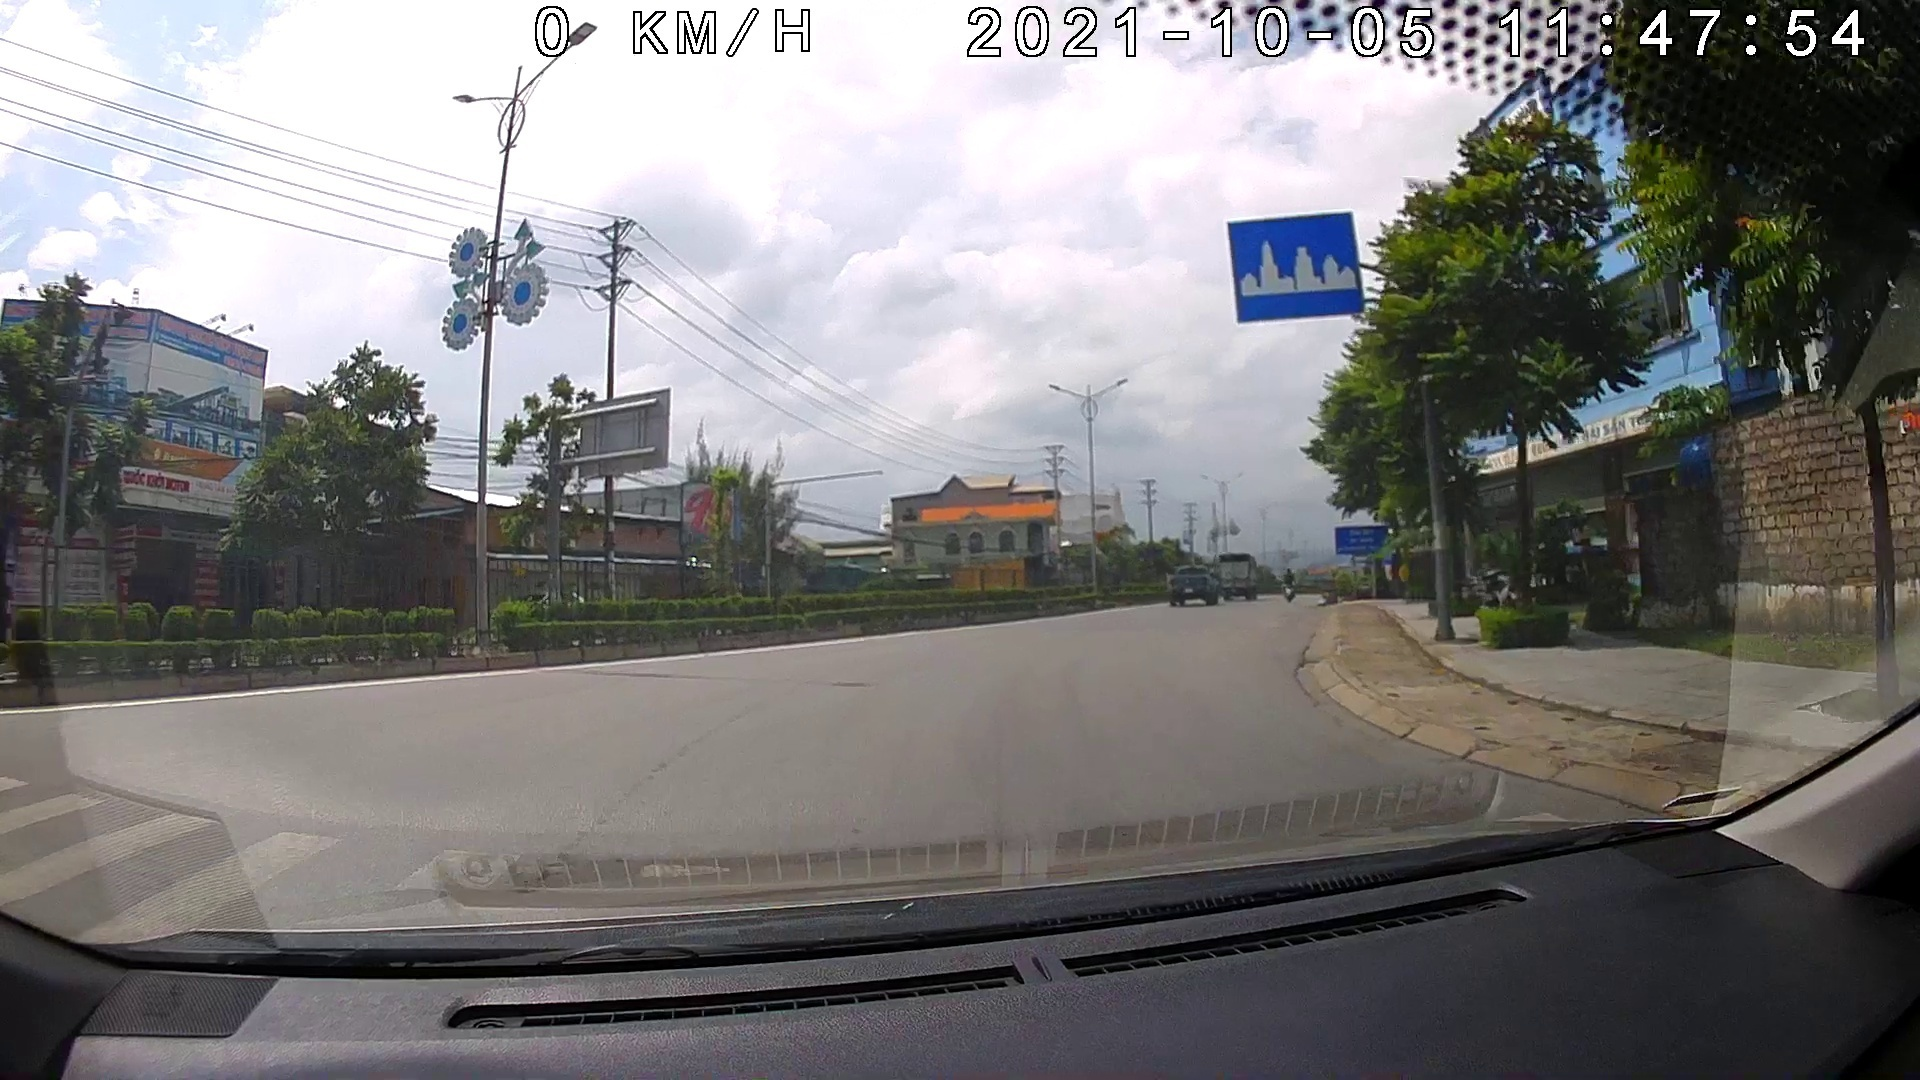Bien khac: (1224, 206, 1369, 319)
